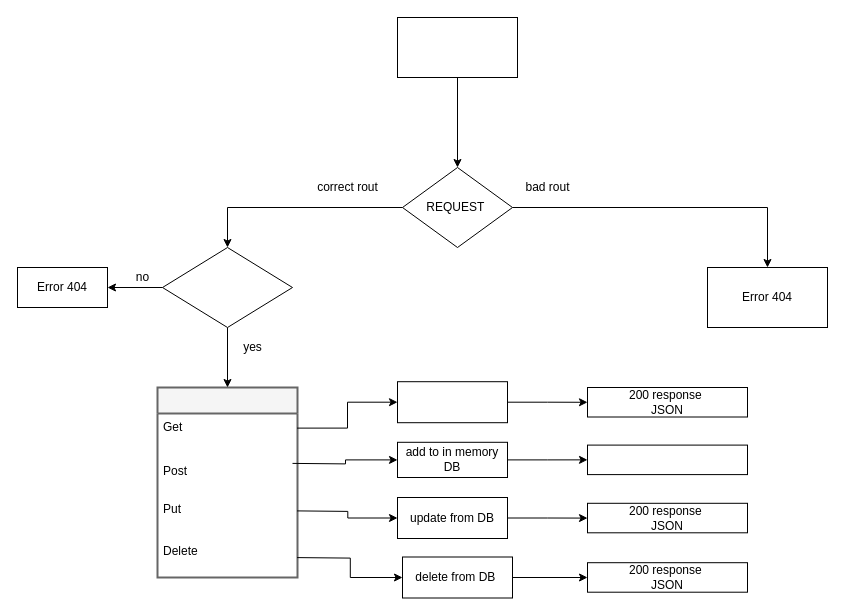
Some shapes in this 845 by 616 pixel diagram are drawn without their labels. The shapes that lost their labels are listed below. From the top down, each one's box as (x1, y1, x2, y2) in pixels, then its label:
(396, 16, 518, 78): API END POINT
(162, 246, 292, 328): Correct method
(396, 381, 508, 423): read in memory DB
(586, 444, 748, 475): 201 response JSON
(156, 386, 298, 578): methods
